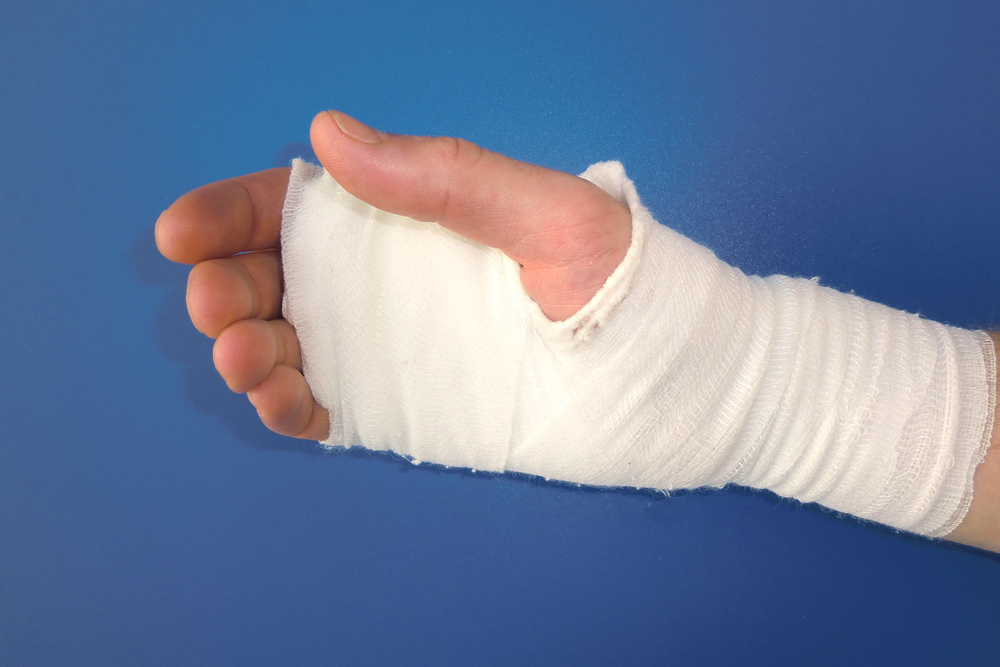injured: (191, 131, 960, 569)
